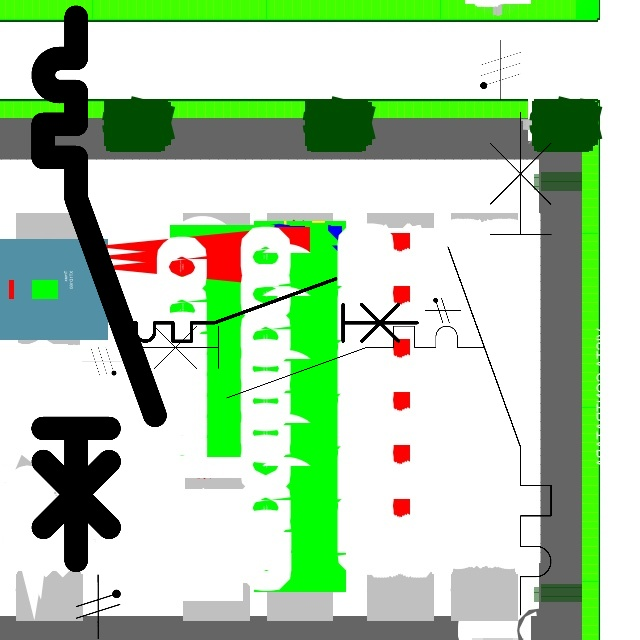interruptor_termomagnetico: (29, 3, 169, 574), (435, 99, 564, 627), (123, 317, 492, 407), (105, 271, 424, 349)
